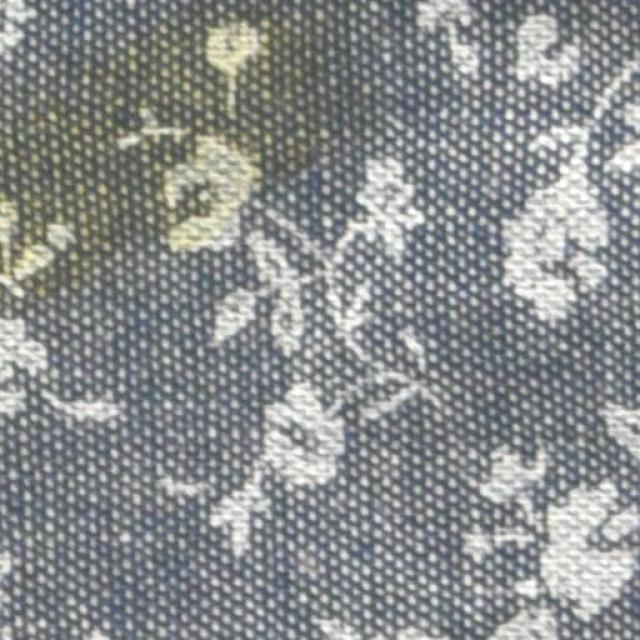Stain: (0, 6, 357, 312)
